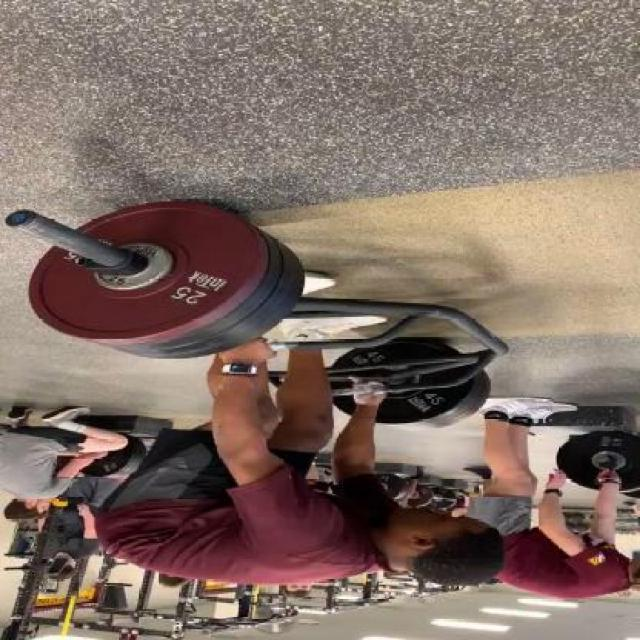Barbell: (0, 206, 42, 232), (586, 452, 619, 466)
